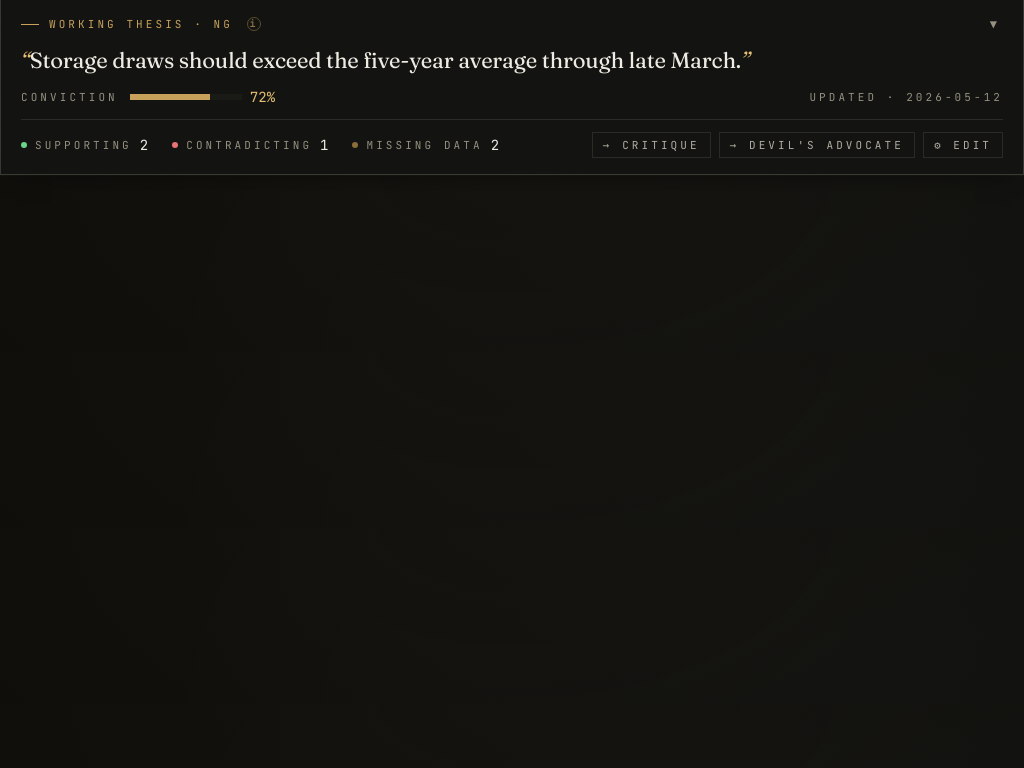
Test case: WorkingThesisCard › opens the edit modal when the Edit button is clicked
This screenshot has width=1024, height=768.
Step 1. Click the button "⚙ Edit" → {"x": 963, "y": 145}, box left=923, top=132, right=1003, bottom=158
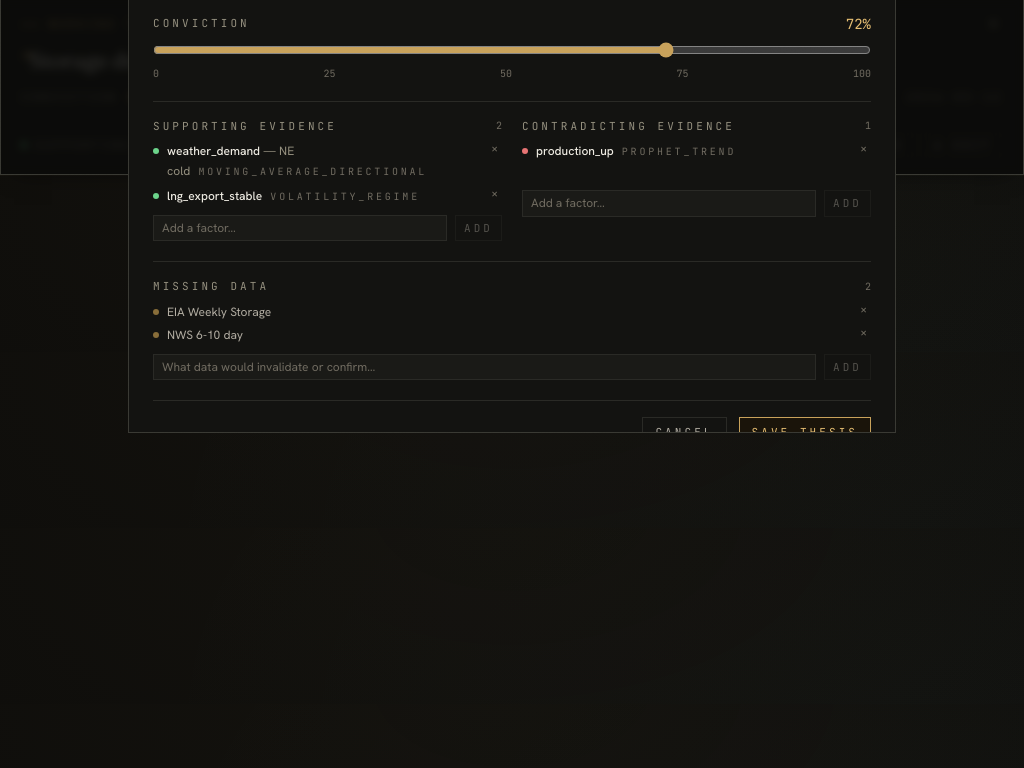
Check: the dialog "Edit Working Thesis" is shown, box left=1, top=0, right=1023, bottom=174
